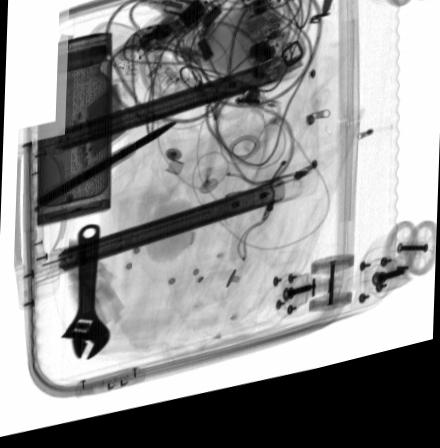Pliers: (31, 130, 177, 214)
Powerbank: (65, 86, 131, 171)
Wrench: (57, 229, 110, 366)
